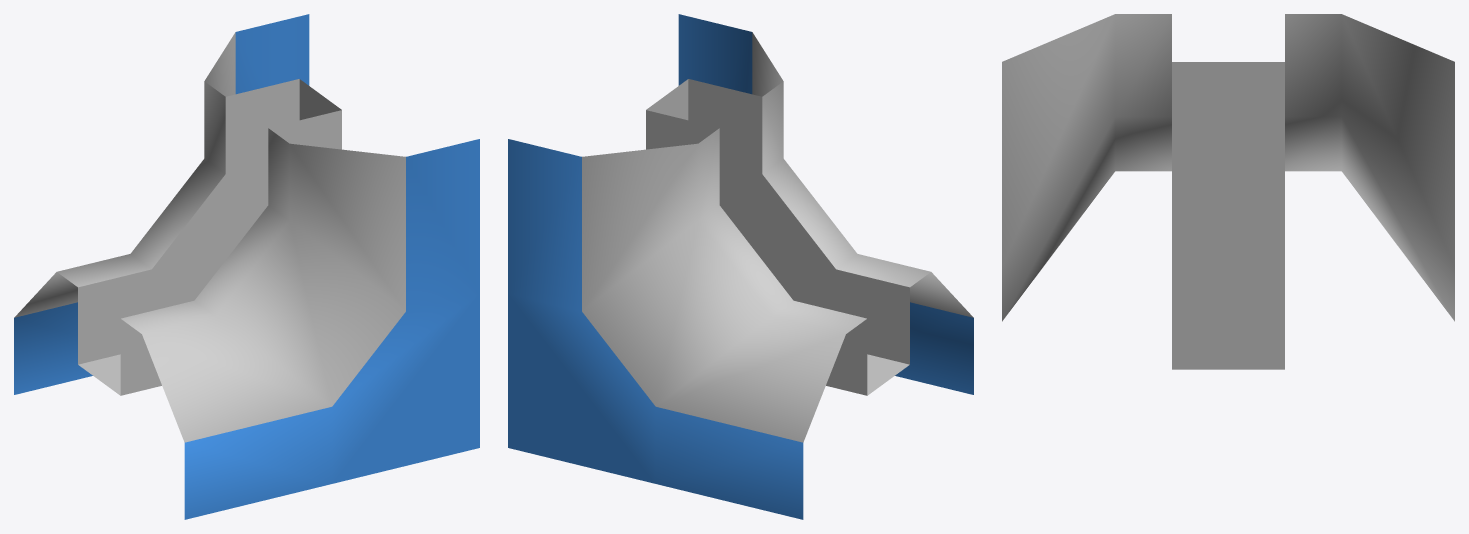
The model's file is windowFrameCorner.fbx.
3 views of the same model, side by side, from view 1: azimuth 30°, elevation 25°; view 2: azimuth 150°, elevation 25°; view 3: azimuth 270°, elevation 25° (orthographic). The views are drawn at different scales.
Visible parts, largest first — view 1: Krychle_2; view 2: Krychle_2; view 3: Krychle_2.
Part boxes in pixels (left/top/right/bottom): Krychle_2: left=14, top=14, right=479, bottom=519; Krychle_2: left=508, top=14, right=973, bottom=519; Krychle_2: left=1002, top=14, right=1454, bottom=369.
Bounding box in the file's own units: 20 × 20 × 20.
